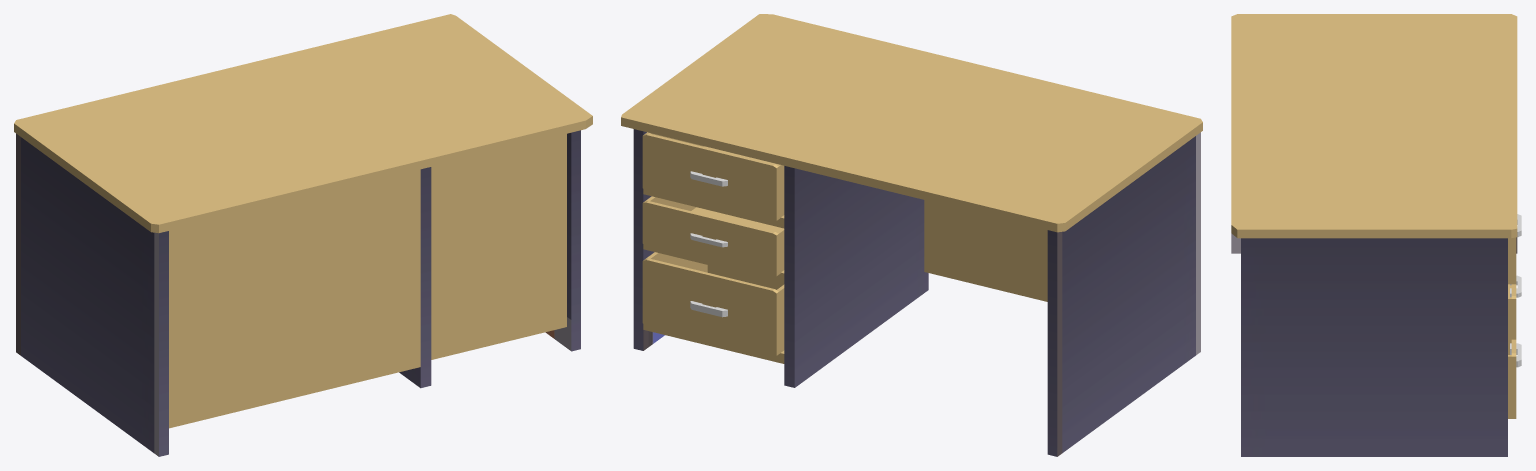
The model's file is MejaKantorRev.fbx.
3 views of the same model, side by side, from view 1: azimuth 30°, elevation 25°; view 2: azimuth 150°, elevation 25°; view 3: azimuth 270°, elevation 25° (orthographic).
Visible parts, largest first — view 1: Meja.001; view 2: Meja.001, Drawer3.001, Drawer1.001, Drawer2.001; view 3: Meja.001, Drawer3.001, Drawer2.001, Drawer1.001.
Boxes of the visible parts, bbox=[...] form: Meja.001: bbox=[14, 14, 592, 456]; Meja.001: bbox=[621, 14, 1202, 456]; Drawer3.001: bbox=[642, 252, 784, 356]; Drawer1.001: bbox=[642, 132, 784, 221]; Drawer2.001: bbox=[642, 196, 784, 276]; Meja.001: bbox=[1231, 14, 1517, 456]; Drawer3.001: bbox=[1508, 339, 1521, 418]; Drawer2.001: bbox=[1508, 275, 1521, 339]; Drawer1.001: bbox=[1508, 214, 1521, 284].
Bounding box in the file's own units: 223 × 112 × 127.
Materials: 5 (1 with a texture image).
